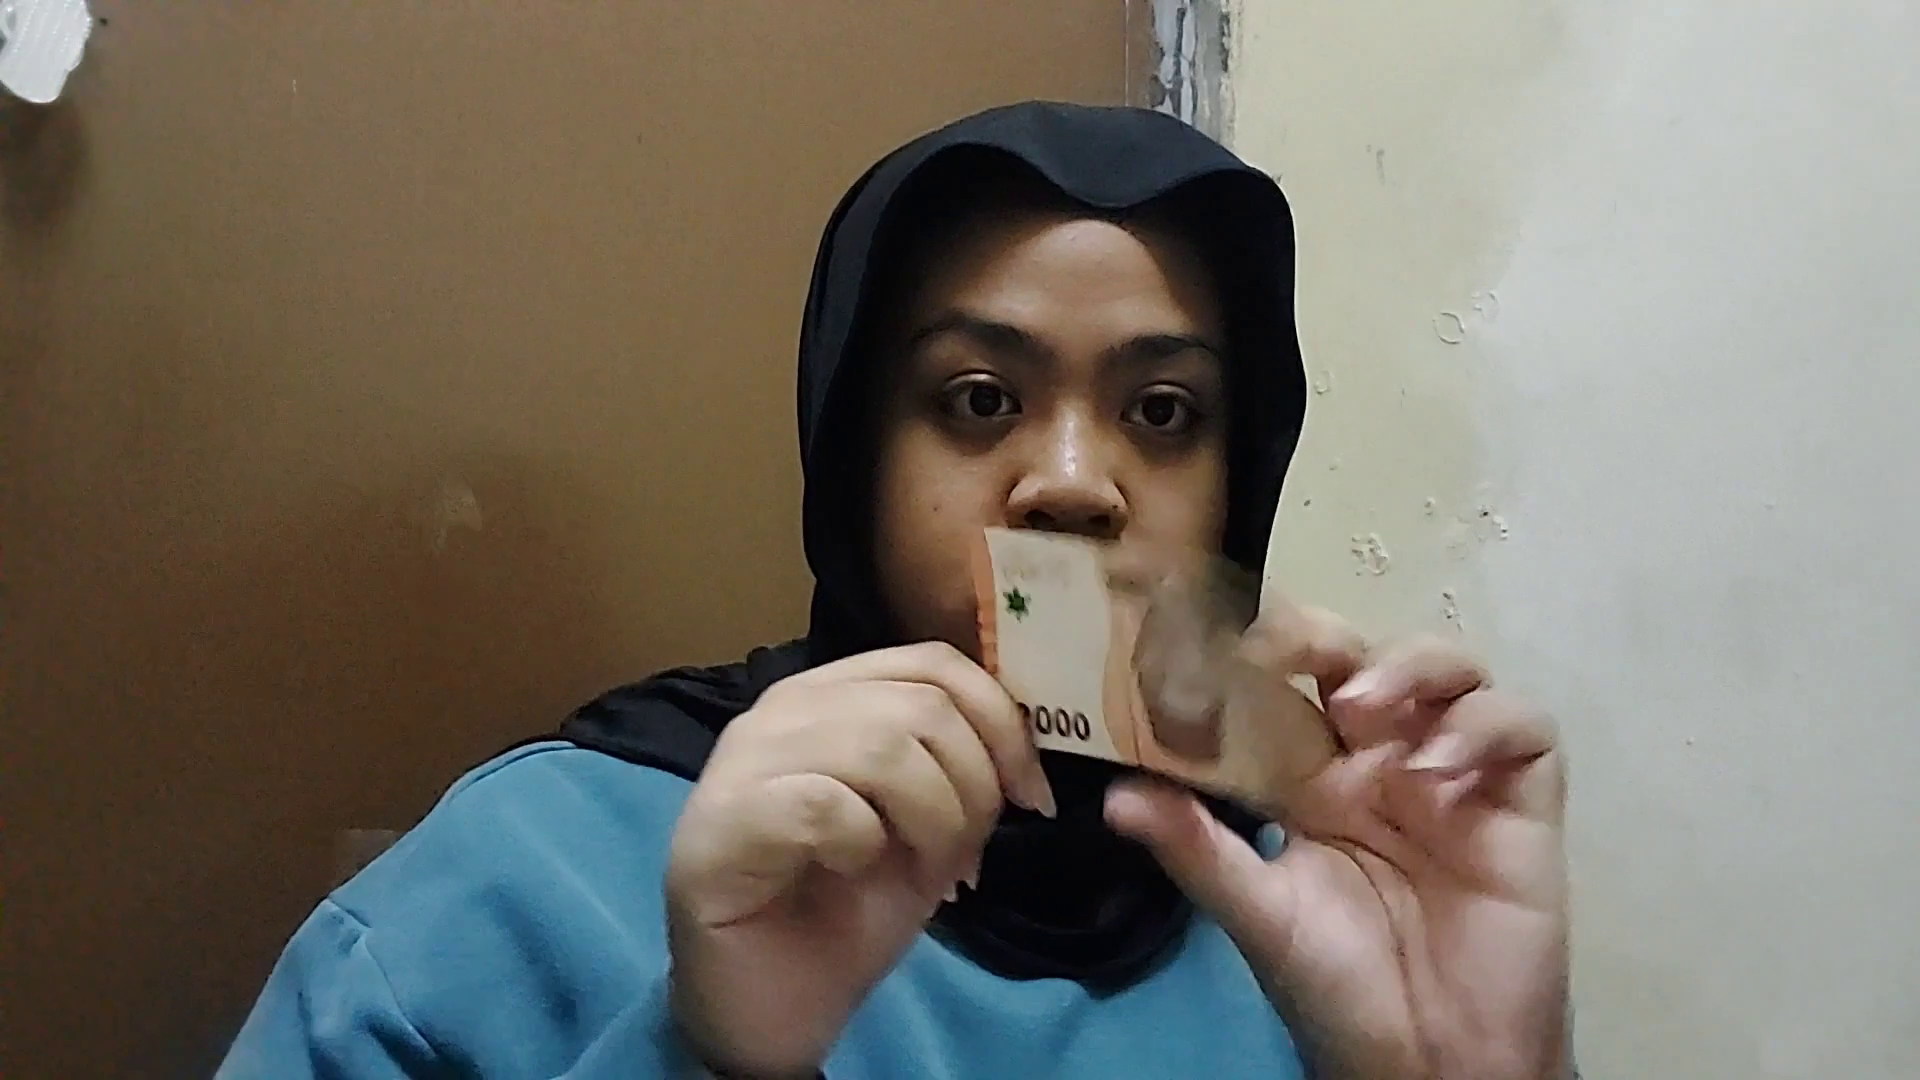5k: (963, 524, 1354, 799)
